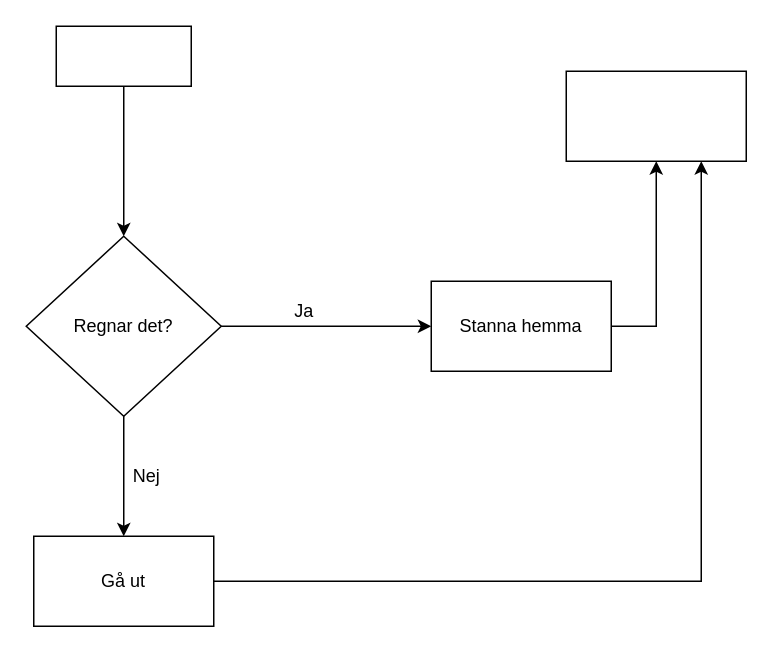
Image size: 773x653. Some labels were removed from this diagram. Each missing label, with the centre of its shape:
"Klar" goes at point (655, 115).
"Start" goes at point (123, 55).
